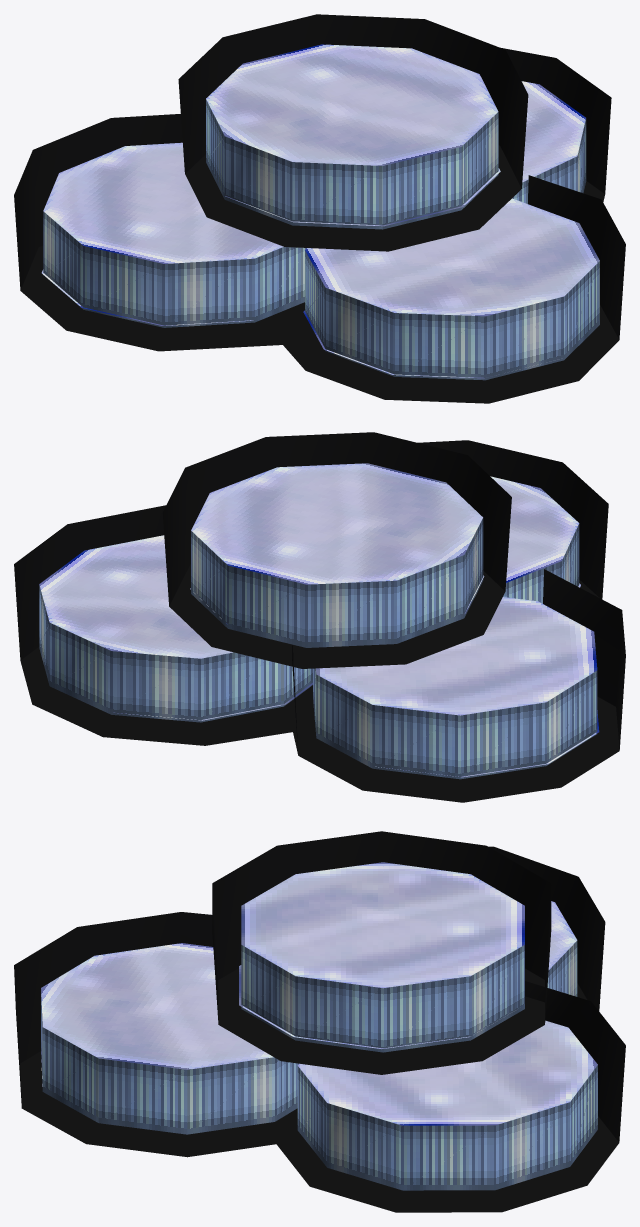
The model's file is COIN.fbx.
3 renders of one model, top to bottom at view 1: azimuth 30°, elevation 25°; view 2: azimuth 150°, elevation 25°; view 3: azimuth 270°, elevation 25°, orthographic.
Visible parts, largest first — view 1: COIN; view 2: COIN; view 3: COIN.
Boxes of the visible parts, x1,y1,x2,y2 form: COIN: (14,14,625,403); COIN: (14,432,625,802); COIN: (14,831,625,1212).
Bounding box in the file's own units: 2982 × 903 × 2811.
Materials: 1 (1 with a texture image).
